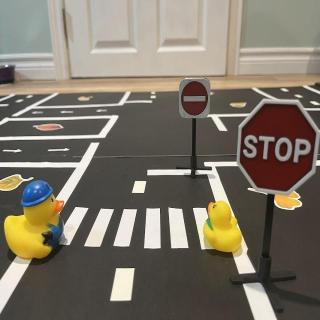duck_regular: (203, 202, 245, 256)
duck_specialty: (5, 181, 65, 263)
road_crosswalk: (60, 204, 224, 254)
road_oneway: (48, 147, 73, 156), (2, 147, 24, 157), (60, 108, 76, 116), (96, 107, 110, 116), (32, 111, 47, 118)
sign_noentry: (180, 80, 212, 122)
sign_stop: (238, 100, 320, 196)
